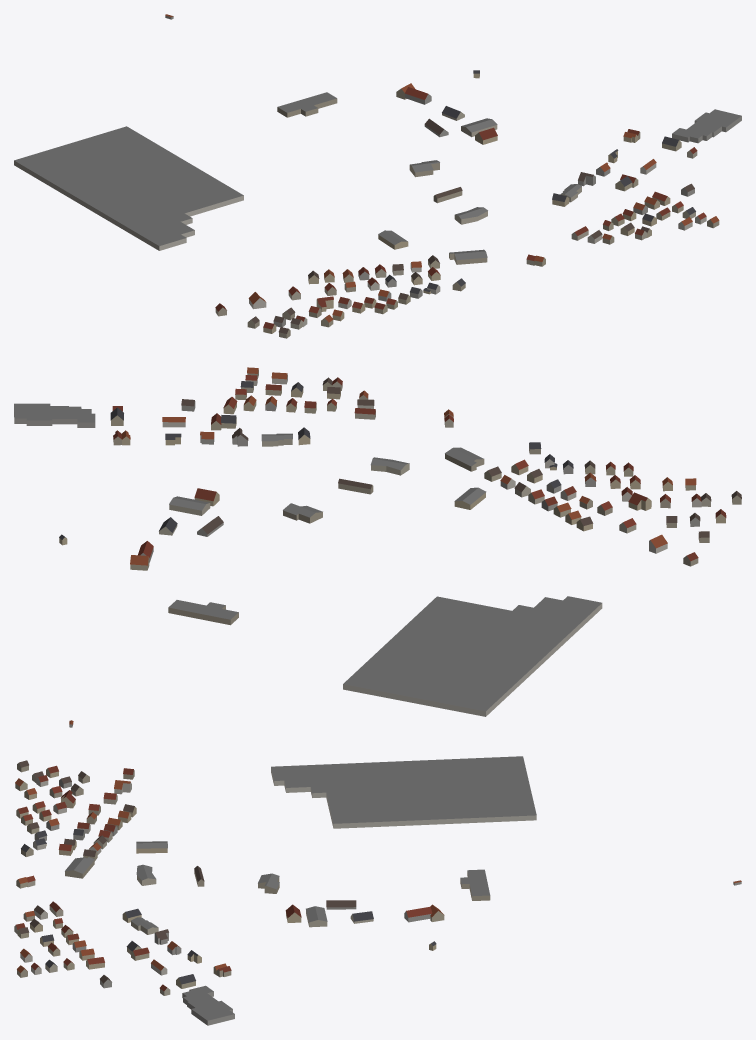
3 renders of one model, top to bottom at view 1: azimuth 30°, elevation 25°; view 2: azimuth 150°, elevation 25°; view 3: azimuth 270°, elevation 25°, orthographic. The views are drawn at different scales.
Parts seen in each view (by area): view 1: buildings; view 2: buildings; view 3: buildings.
Part boxes in pixels (x1,y1,x2,y2): buildings: [14, 14, 741, 338]; buildings: [14, 367, 741, 727]; buildings: [14, 756, 741, 1025].
Size of the model in its own units: 738 by 49.25 by 801.
